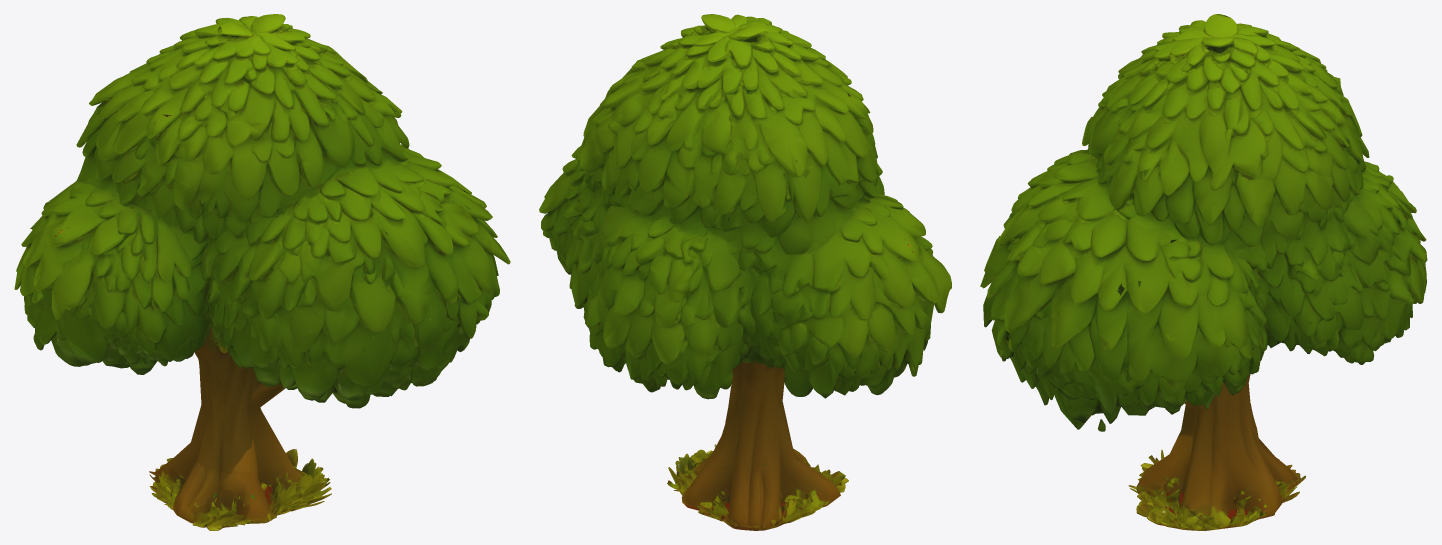
Rendered from green_tree_basic_shaded.low_fidelity.glb.
The picture shows the model from 3 angles, left to right: view 1: azimuth 30°, elevation 25°; view 2: azimuth 150°, elevation 25°; view 3: azimuth 270°, elevation 25°; orthographic projection. The views are drawn at different scales.
Parts seen in each view (by area): view 1: model; view 2: model; view 3: model.
Boxes of the visible parts, x1,y1,x2,y2 form: model: (14,14,510,530); model: (539,14,951,530); model: (980,14,1427,530).
Bounding box in the file's own units: 1.61 × 1.78 × 1.51.
Materials: 1 (1 with a texture image).
